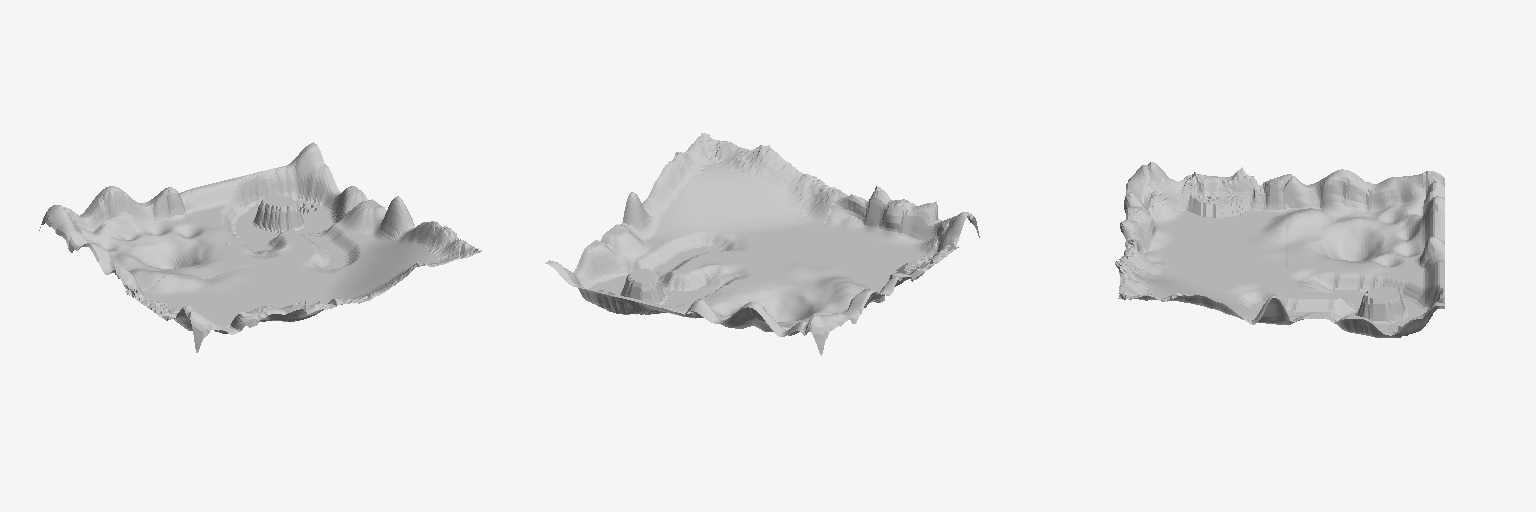
Rendered from mapapg.obj.
3 views of the same model, side by side, from view 1: azimuth 30°, elevation 25°; view 2: azimuth 150°, elevation 25°; view 3: azimuth 270°, elevation 25° (orthographic).
Visible parts, largest first — view 1: Plane.004, Plane.001_Plane, Plane.003, Plane.002; view 2: Plane.003, Plane.002, Plane.004, Plane.001_Plane; view 3: Plane.002, Plane.001_Plane, Plane.004, Plane.003.
Boxes of the visible parts, <box> form: Plane.004: <box>179,142,386,264</box>; Plane.001_Plane: <box>39,186,254,291</box>; Plane.003: <box>256,196,481,306</box>; Plane.002: <box>115,265,335,352</box>; Plane.003: <box>625,133,842,267</box>; Plane.002: <box>763,186,979,302</box>; Plane.004: <box>545,210,762,318</box>; Plane.001_Plane: <box>684,269,898,355</box>; Plane.002: <box>1120,162,1292,267</box>; Plane.001_Plane: <box>1284,169,1444,267</box>; Plane.004: <box>1286,255,1444,337</box>; Plane.003: <box>1115,248,1285,324</box>.
Size of the model in its own units: 213 by 44.56 by 207.